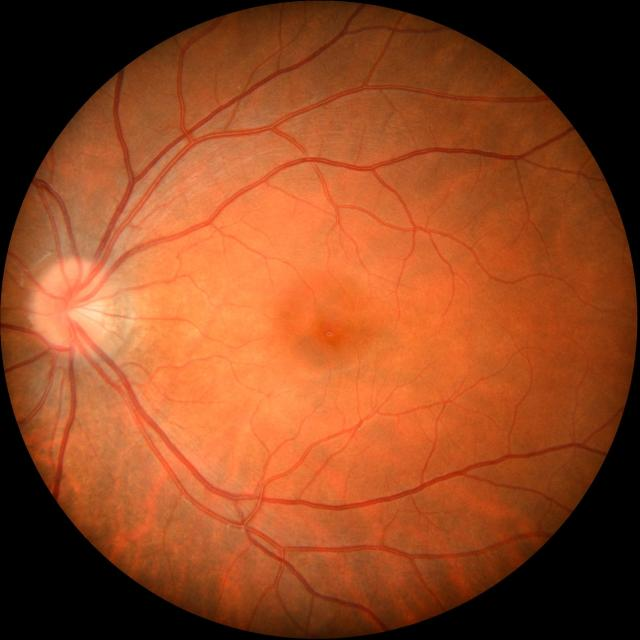OC: (66, 296, 100, 326)
OD: (32, 257, 114, 354)
